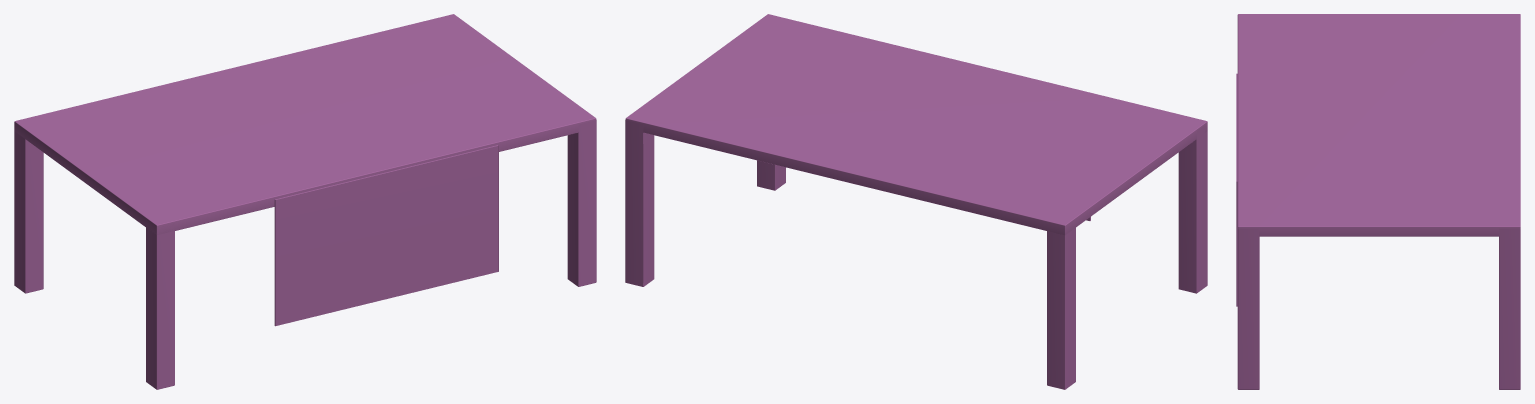
File: Table Mod.fbx
3 renders of one model, left to right at view 1: azimuth 30°, elevation 25°; view 2: azimuth 150°, elevation 25°; view 3: azimuth 270°, elevation 25°, orthographic.
Visible parts, largest first — view 1: pCube1, Name_Board, pCube3, pCube2, pCube5; view 2: pCube1, pCube4, pCube2, pCube5, pCube3; view 3: pCube1, pCube3, pCube4, Name_Board.
Part boxes in pixels (x1,y1,x2,y2): pCube1: (14,14,596,234); Name_Board: (274,145,498,326); pCube3: (567,120,596,286); pCube2: (146,220,174,389); pCube5: (14,131,43,293); pCube1: (625,14,1207,235); pCube4: (625,120,654,286); pCube2: (1178,125,1207,293); pCube5: (1047,228,1075,389); pCube3: (757,160,785,190); pCube1: (1237,14,1520,236); pCube3: (1237,228,1259,389); pCube4: (1499,228,1520,389); Name_Board: (1236,73,1237,306).
Size of the model in its own units: 223 by 79.97 by 126.
